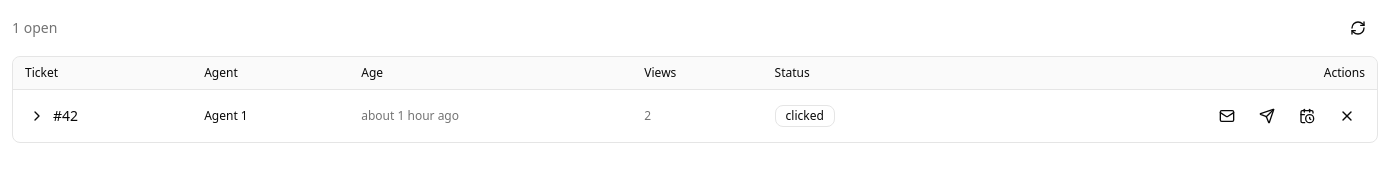
OutstandingRequests link lifecycle › reports audit load failures inline
The image size is (1390, 193).
Click the button named "Show link activity for ticket 42" at [37, 116], box [25,104,49,128]
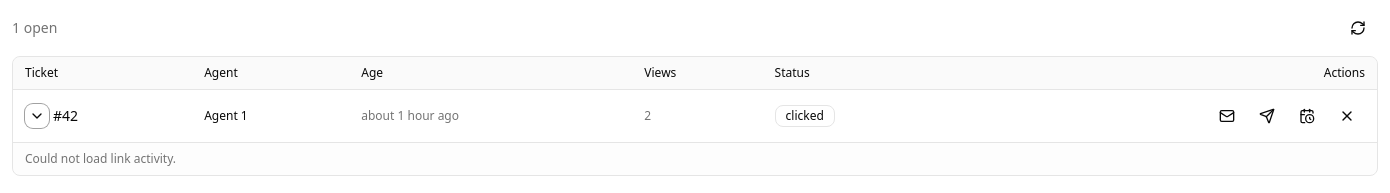
Expected: the text "Could not load link activity." is shown, [25,150,176,167]
